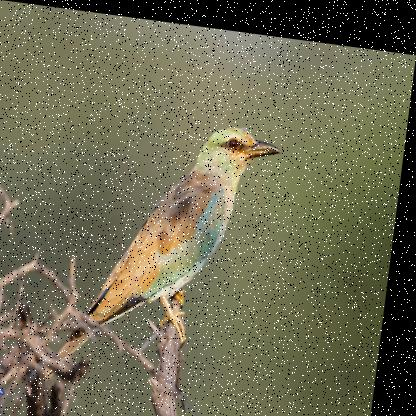Burung: (42, 101, 283, 401)
